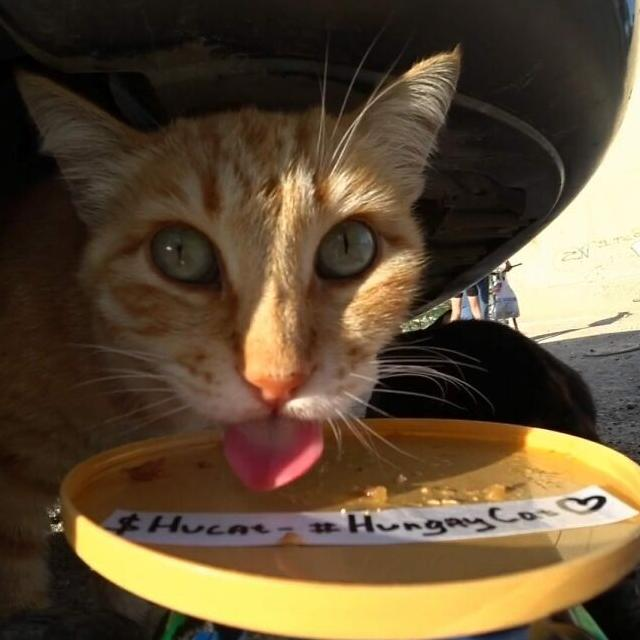animals: (10, 28, 535, 524)
